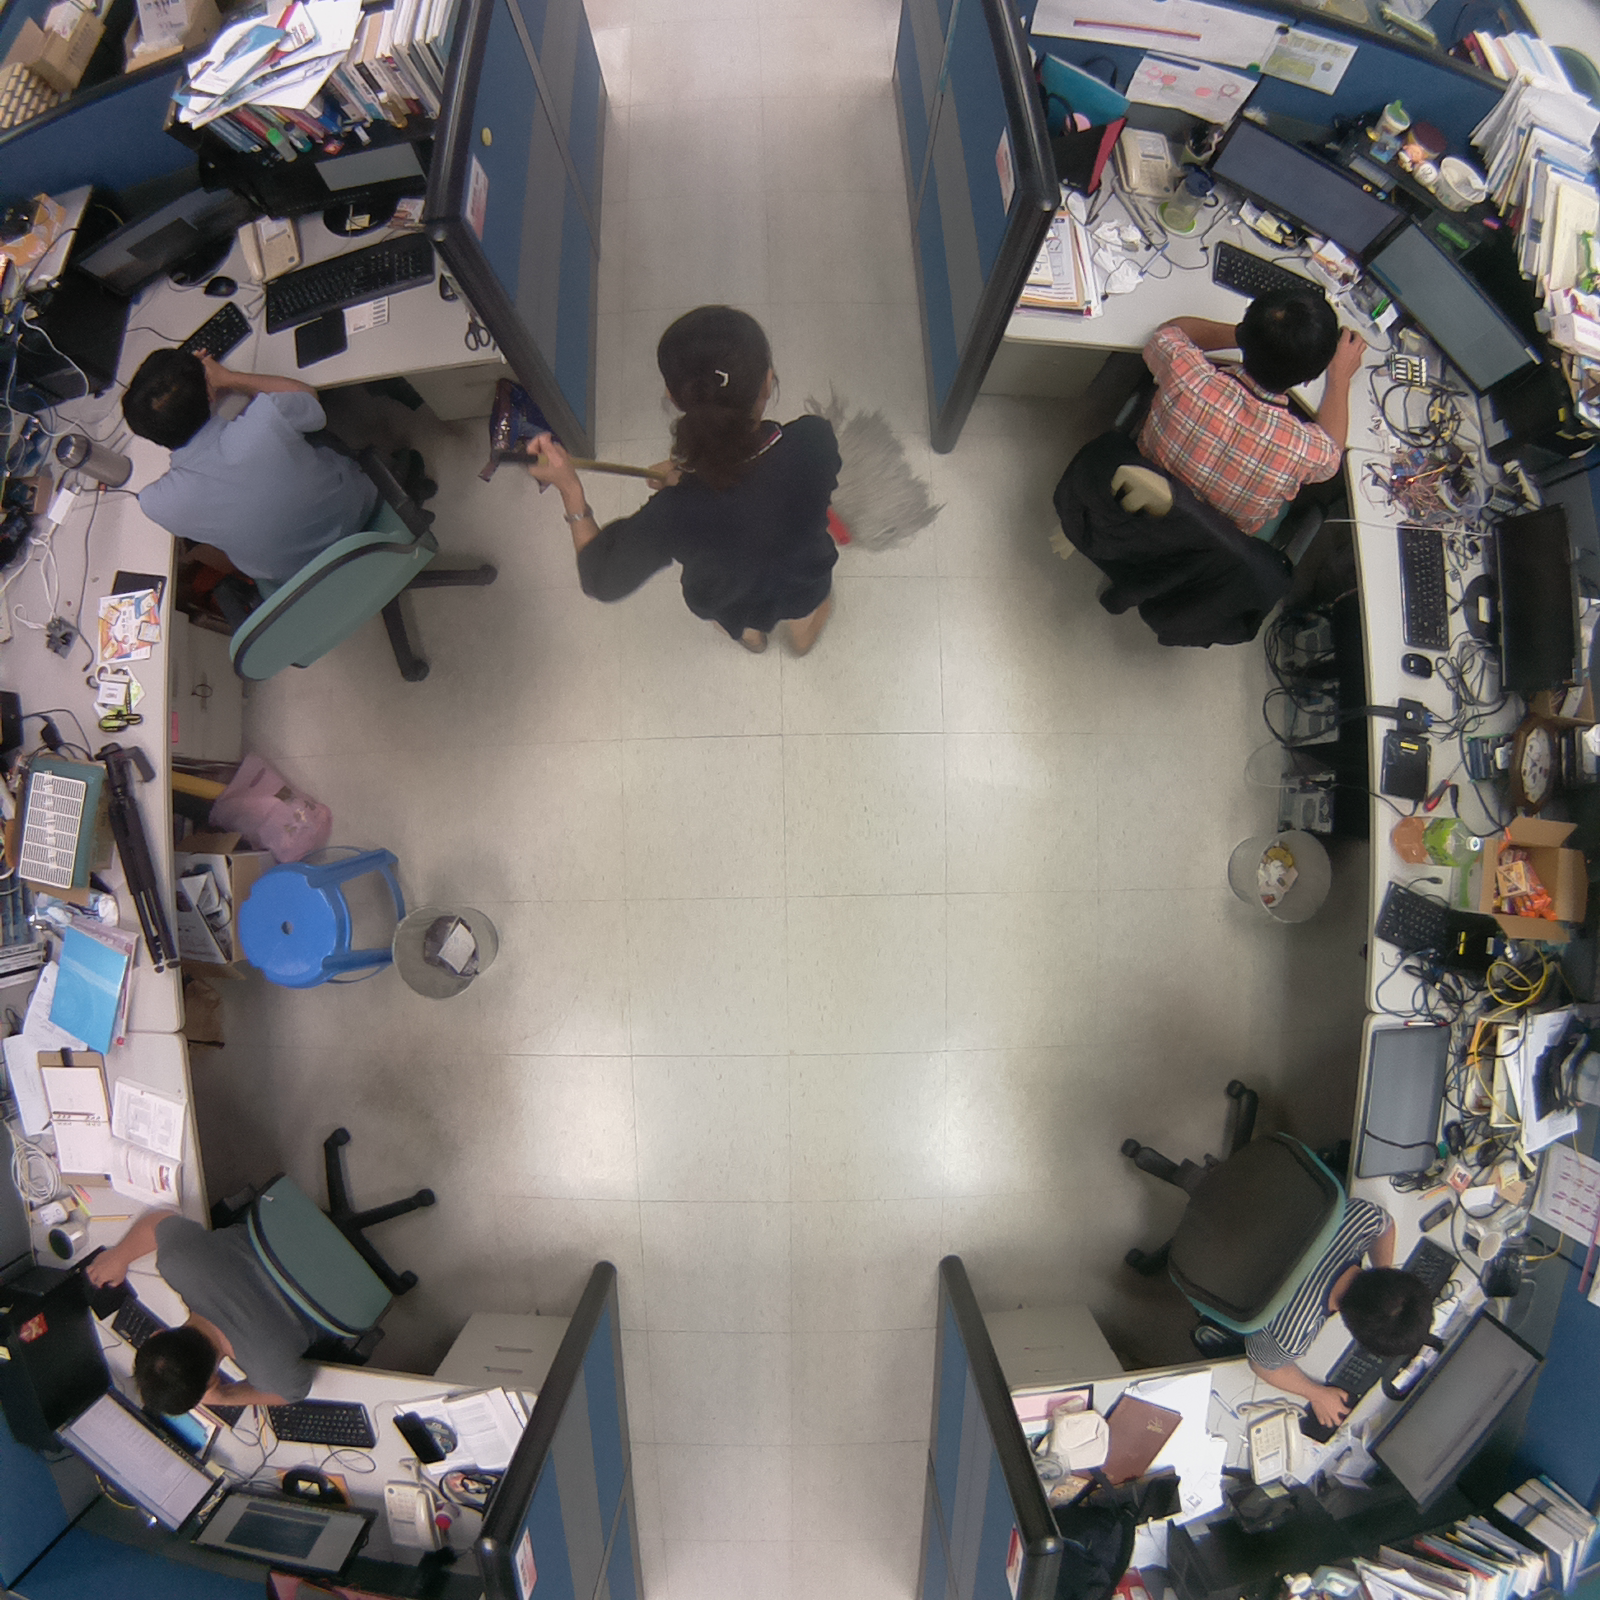head: (651, 295, 783, 431), (1231, 267, 1348, 400), (1331, 1253, 1443, 1369), (115, 335, 219, 449), (126, 1314, 226, 1423)
sitting: (101, 335, 545, 768), (1096, 1065, 1448, 1438), (1040, 267, 1370, 658), (76, 1106, 450, 1427)
standing: (496, 303, 873, 669)
